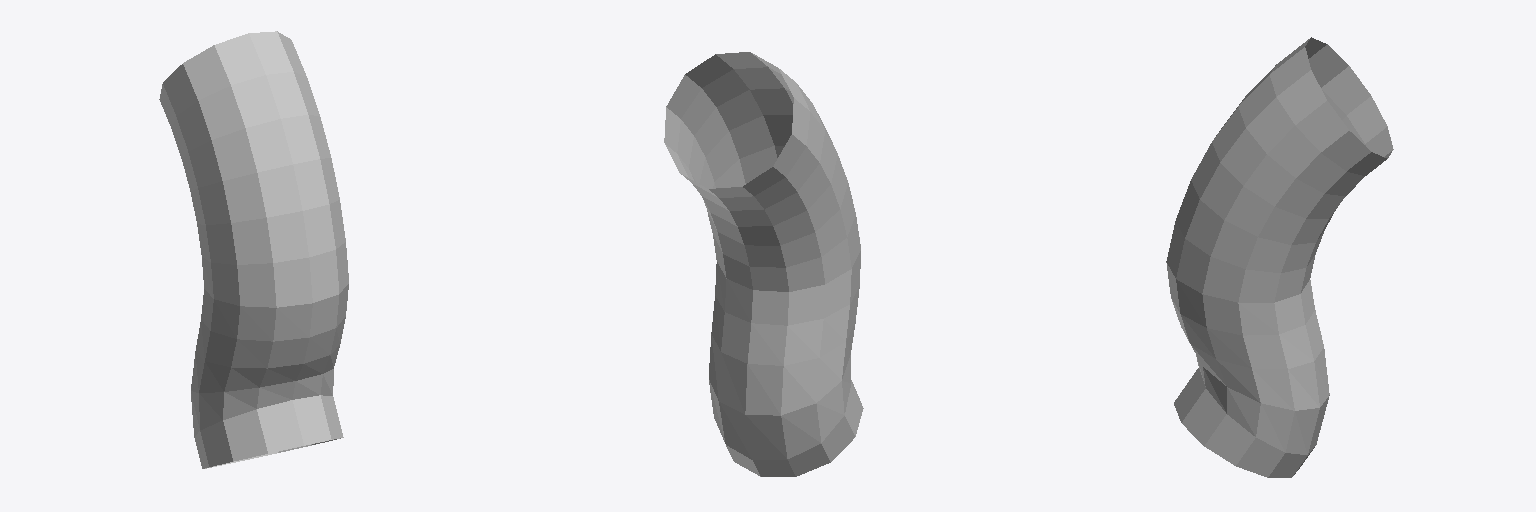
Rendered from Tartaruga-pescoco.obj.
3 renders of one model, left to right at view 1: azimuth 30°, elevation 25°; view 2: azimuth 150°, elevation 25°; view 3: azimuth 270°, elevation 25°, orthographic.
Visible parts, largest first — view 1: Tartaruga-pescoco_Cylinder.007; view 2: Tartaruga-pescoco_Cylinder.007; view 3: Tartaruga-pescoco_Cylinder.007.
Part boxes in pixels (bbox=[...]): Tartaruga-pescoco_Cylinder.007: bbox=[159, 31, 348, 468]; Tartaruga-pescoco_Cylinder.007: bbox=[664, 52, 863, 476]; Tartaruga-pescoco_Cylinder.007: bbox=[1166, 37, 1393, 477].
Bounding box in the file's own units: 0.2517 × 0.7606 × 0.3692.